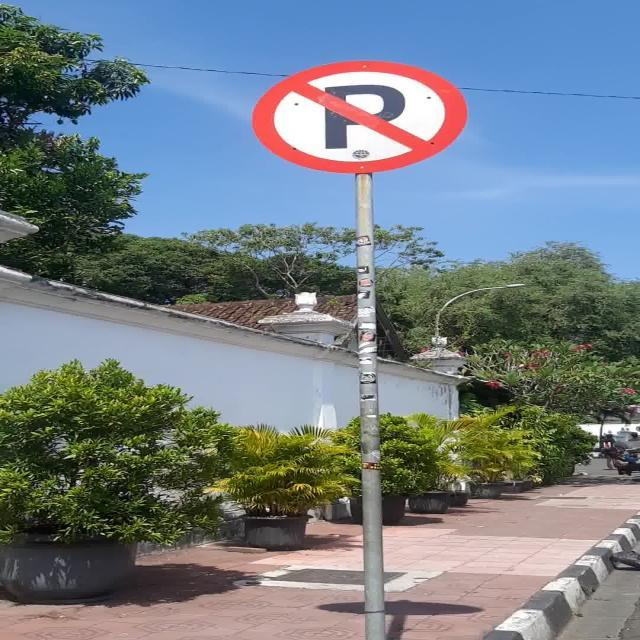Dilarang Parkir: (252, 60, 468, 173)
